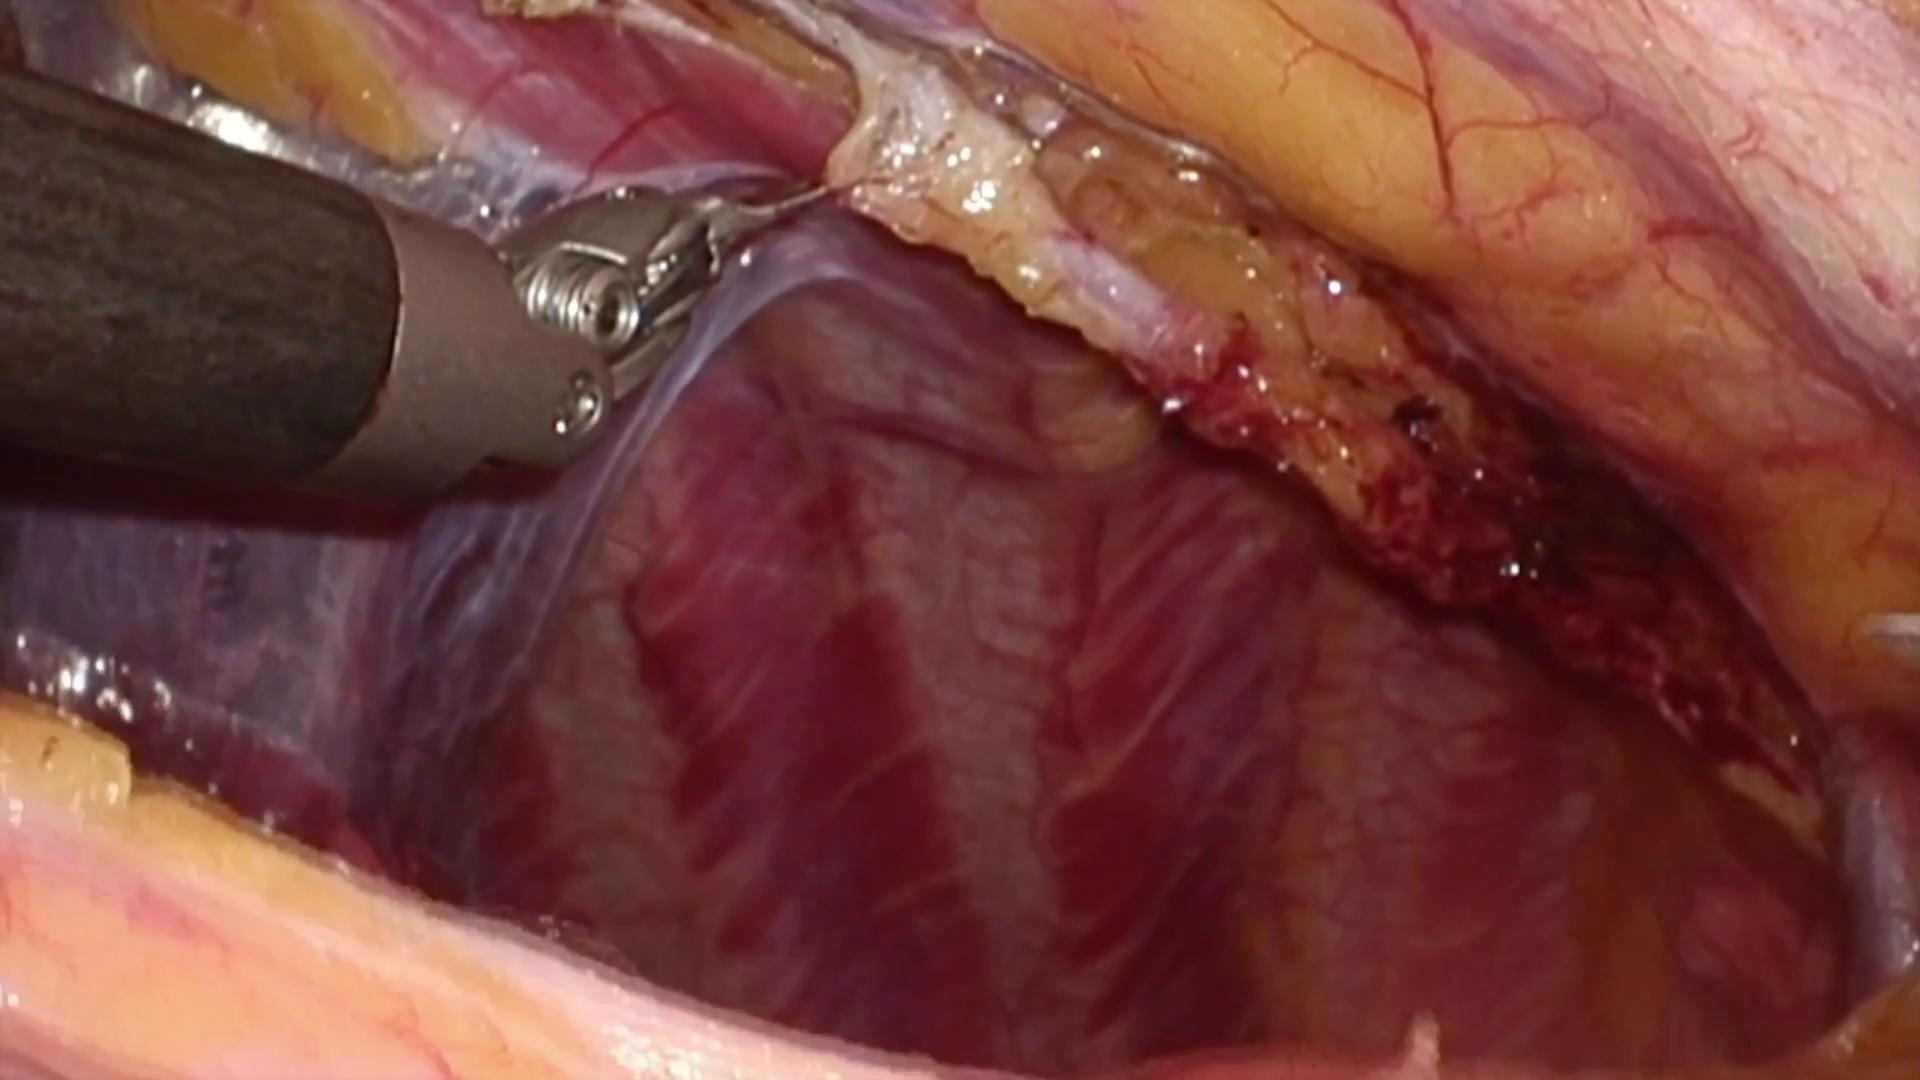Cautery_Spatula: (1865, 608, 1920, 686)
Debakey: (678, 177, 872, 270)
